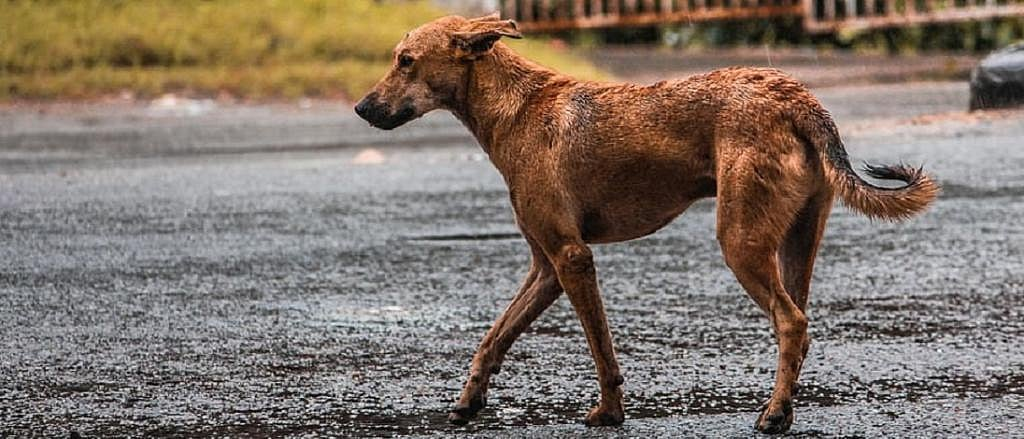Dog: (356, 5, 955, 434)
